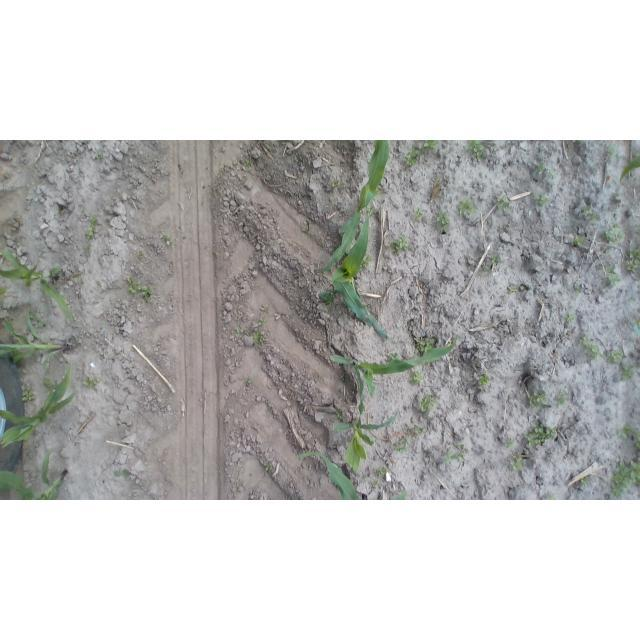Maize: (329, 333, 459, 432), (315, 140, 390, 273), (319, 205, 389, 340), (0, 361, 78, 448), (0, 249, 74, 321), (332, 409, 401, 476), (0, 310, 68, 374), (296, 449, 363, 500), (0, 449, 68, 499), (619, 154, 640, 187), (393, 490, 408, 500)
Weeds: (609, 456, 640, 501), (391, 423, 424, 458), (525, 420, 559, 450), (403, 140, 438, 168), (577, 331, 603, 361), (127, 276, 153, 304), (618, 422, 640, 451), (442, 443, 468, 466), (601, 225, 625, 246), (529, 387, 549, 412), (604, 262, 622, 289), (535, 160, 558, 181), (387, 234, 408, 256), (507, 450, 525, 474), (419, 391, 438, 413), (457, 196, 477, 216), (435, 210, 451, 235), (466, 140, 485, 161), (625, 247, 640, 273), (530, 189, 549, 208), (415, 336, 435, 354), (602, 144, 618, 166), (319, 289, 336, 308), (620, 362, 636, 382), (606, 346, 623, 364), (497, 193, 512, 213), (552, 391, 569, 408), (42, 376, 58, 394), (85, 214, 96, 240), (82, 377, 100, 392), (565, 307, 579, 325), (29, 311, 44, 327), (20, 390, 38, 403), (475, 374, 489, 389), (253, 331, 266, 346), (114, 469, 131, 480), (586, 213, 601, 225), (410, 371, 422, 386), (383, 351, 400, 361), (502, 437, 515, 450), (411, 207, 423, 221), (235, 327, 246, 342), (242, 375, 254, 388), (162, 231, 173, 245), (489, 253, 501, 265), (244, 156, 253, 172), (363, 254, 373, 268), (579, 477, 591, 488), (263, 461, 274, 473), (301, 221, 311, 234), (574, 235, 585, 246), (335, 407, 344, 420), (377, 465, 388, 475), (95, 149, 104, 161), (258, 316, 267, 327), (1, 286, 8, 300), (506, 284, 518, 292), (574, 282, 583, 292), (331, 179, 340, 189), (585, 204, 592, 214), (371, 480, 379, 488), (96, 281, 103, 290), (138, 250, 145, 259), (260, 305, 268, 312), (570, 140, 583, 144), (339, 374, 345, 382), (84, 242, 90, 250), (635, 316, 640, 324), (635, 224, 640, 232), (361, 472, 366, 480), (212, 250, 218, 256), (77, 278, 83, 284), (397, 385, 401, 393)
